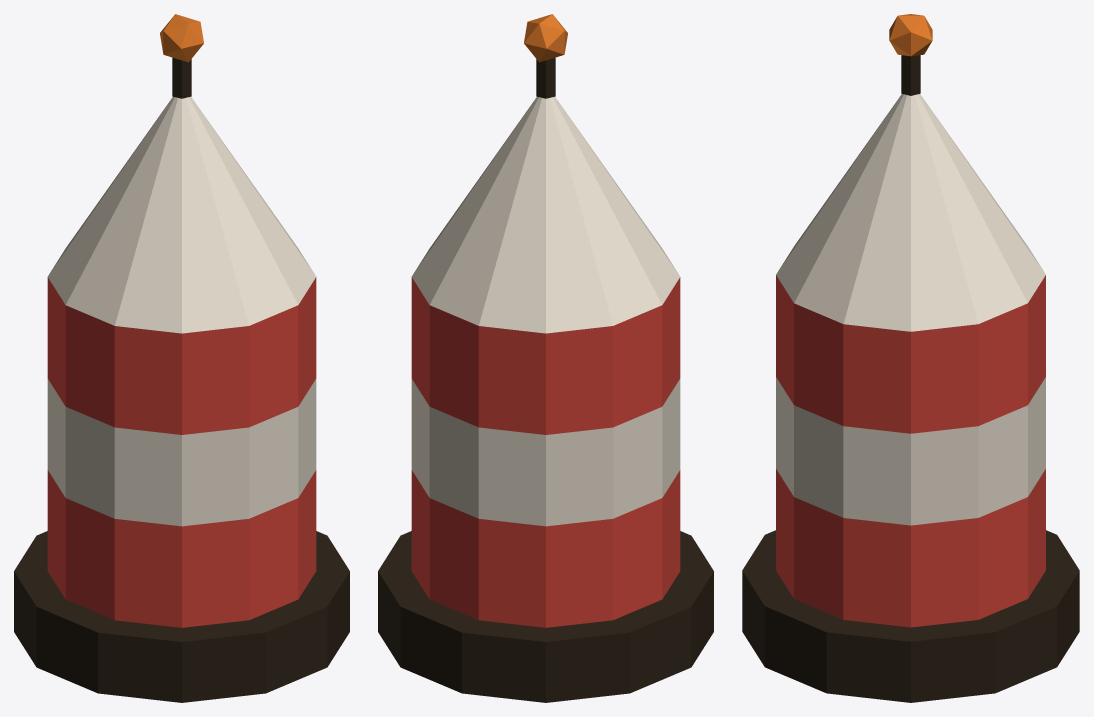
The model's file is buoy_red.glb.
The picture shows the model from 3 angles, left to right: view 1: azimuth 30°, elevation 25°; view 2: azimuth 150°, elevation 25°; view 3: azimuth 270°, elevation 25°; orthographic projection.
Visible parts, largest first — view 1: buoy_cone, buoy_base, buoy_band1, buoy_band3, buoy_band2, buoy_lamp, buoy_mast; view 2: buoy_cone, buoy_base, buoy_band1, buoy_band3, buoy_band2, buoy_lamp, buoy_mast; view 3: buoy_cone, buoy_base, buoy_band3, buoy_band1, buoy_band2, buoy_lamp, buoy_mast.
Boxes of the visible parts, x1=… form: buoy_cone: x1=47, y1=96, x2=316, y2=333; buoy_base: x1=14, y1=531, x2=349, y2=702; buoy_band1: x1=47, y1=470, x2=316, y2=627; buoy_band3: x1=47, y1=277, x2=316, y2=434; buoy_band2: x1=47, y1=379, x2=316, y2=526; buoy_lamp: x1=160, y1=14, x2=203, y2=62; buoy_mast: x1=172, y1=57, x2=191, y2=98; buoy_cone: x1=411, y1=96, x2=680, y2=333; buoy_base: x1=378, y1=531, x2=713, y2=702; buoy_band1: x1=411, y1=470, x2=680, y2=627; buoy_band3: x1=411, y1=277, x2=680, y2=434; buoy_band2: x1=411, y1=379, x2=680, y2=526; buoy_lamp: x1=524, y1=14, x2=567, y2=62; buoy_mast: x1=536, y1=57, x2=555, y2=98; buoy_cone: x1=776, y1=94, x2=1045, y2=331; buoy_base: x1=742, y1=530, x2=1079, y2=702; buoy_band3: x1=776, y1=275, x2=1045, y2=433; buoy_band1: x1=776, y1=469, x2=1045, y2=627; buoy_band2: x1=776, y1=377, x2=1045, y2=525; buoy_lamp: x1=889, y1=14, x2=932, y2=56; buoy_mast: x1=901, y1=55, x2=920, y2=95.
Bounding box in the file's own units: 0.6 × 1.21 × 0.6.
